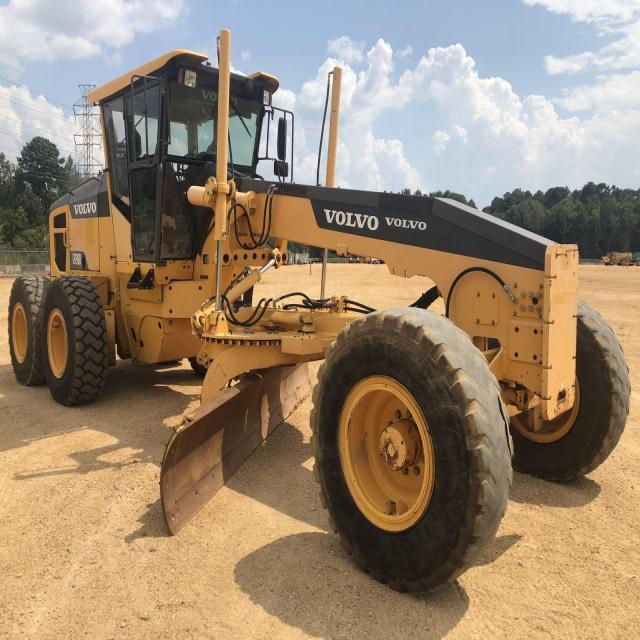Grader: (9, 42, 639, 615)
